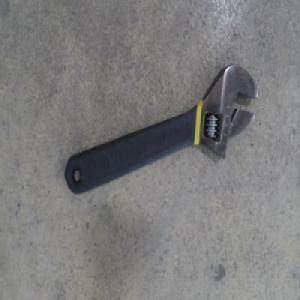AdjustableWrench: (64, 63, 258, 193)
